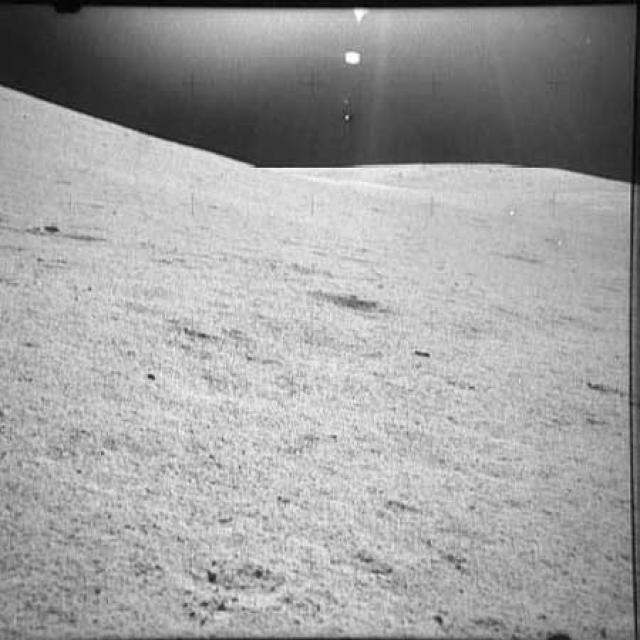crater: (170, 547, 288, 604), (7, 211, 125, 257), (308, 273, 398, 330)
